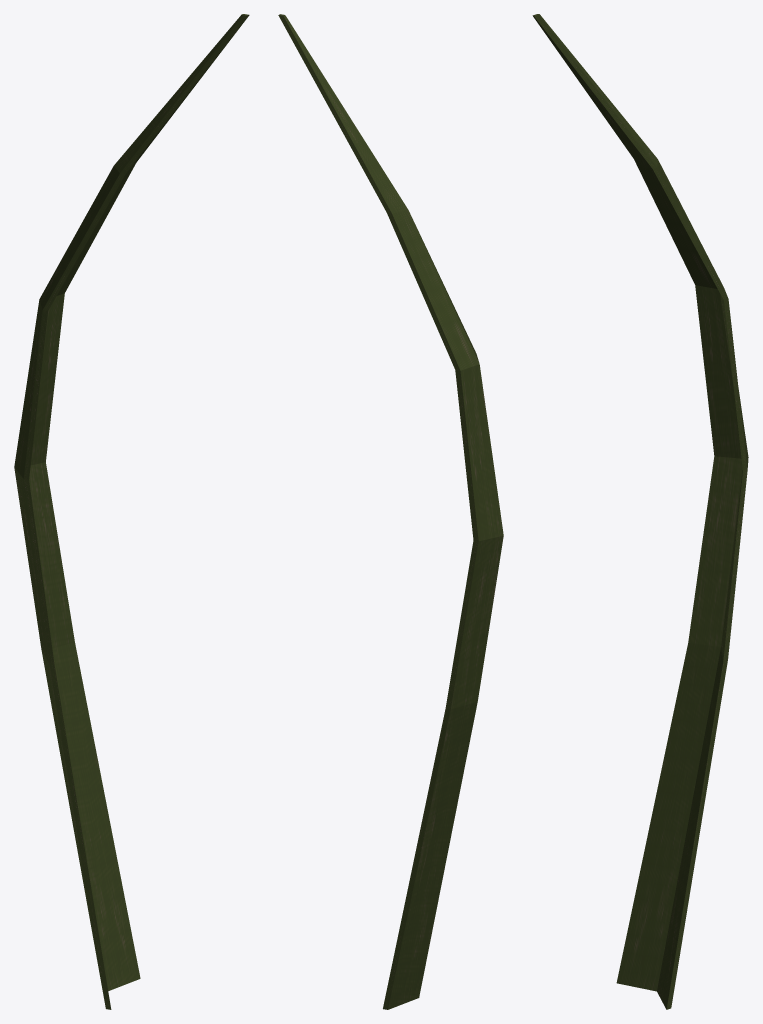
Rendered from grassBlade_3.fbx.
3 renders of one model, left to right at view 1: azimuth 30°, elevation 25°; view 2: azimuth 210°, elevation 25°; view 3: azimuth 270°, elevation 25°, orthographic. The views are drawn at different scales.
Parts seen in each view (by area): view 1: Grass.001; view 2: Grass.001; view 3: Grass.001.
Boxes of the visible parts, x1,y1,x2,y2 form: Grass.001: [14, 14, 249, 1009]; Grass.001: [278, 14, 503, 1009]; Grass.001: [532, 14, 748, 1009].
Bounding box in the file's own units: 219 × 299 × 1548.
